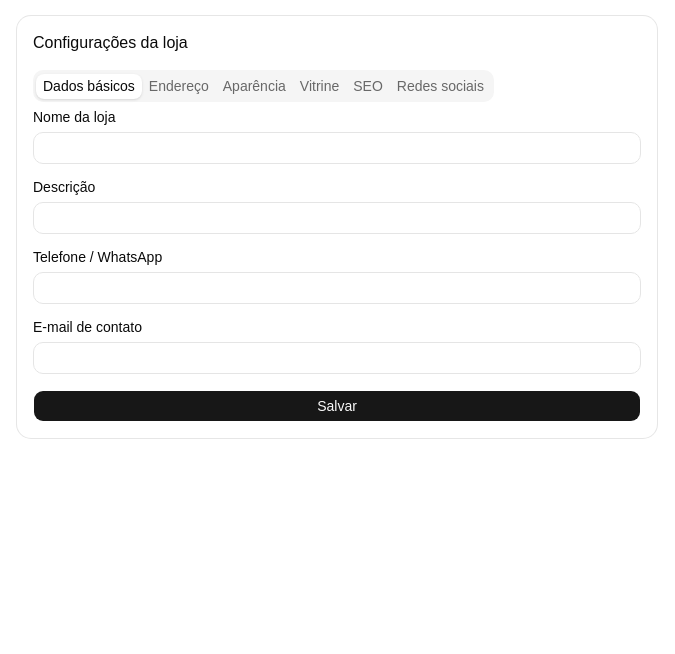
Test case: ConfiguracoesPage › para de sugerir o slug depois que o lojista edita o campo manualmente
The width and height of the screenshot is (675, 654).
Type "Auto Center Silva" into the field labelled "Nome da loja" at x=337, y=148, box x1=33 y1=132 x2=641 y2=164
Click the tab "Vitrine" at x=320, y=86, box x1=293 y1=74 x2=346 y2=98
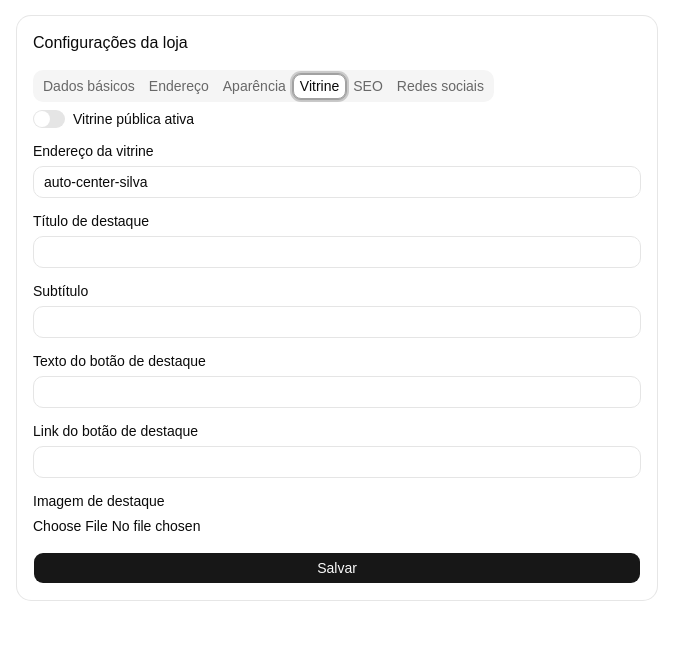
Clear the field labelled "Endereço da vitrine" at x=337, y=182, box x1=33 y1=166 x2=641 y2=198
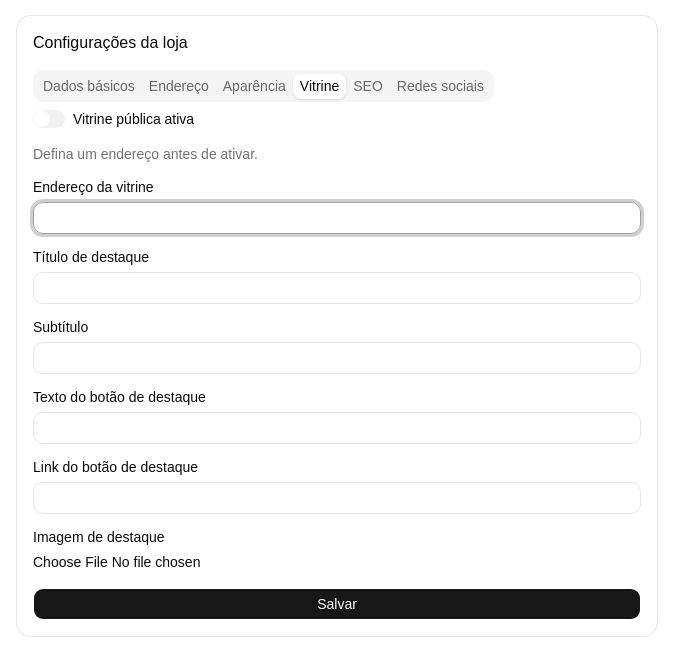
Type "minha-loja-top" into the field labelled "Endereço da vitrine" at x=337, y=218, box x1=33 y1=202 x2=641 y2=234
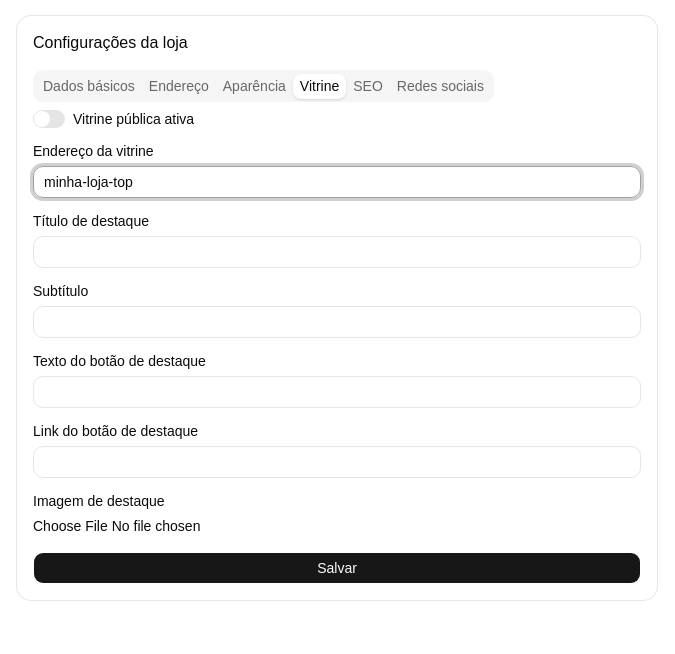
Click the tab "Dados básicos" at x=89, y=86, box x1=36 y1=74 x2=142 y2=98
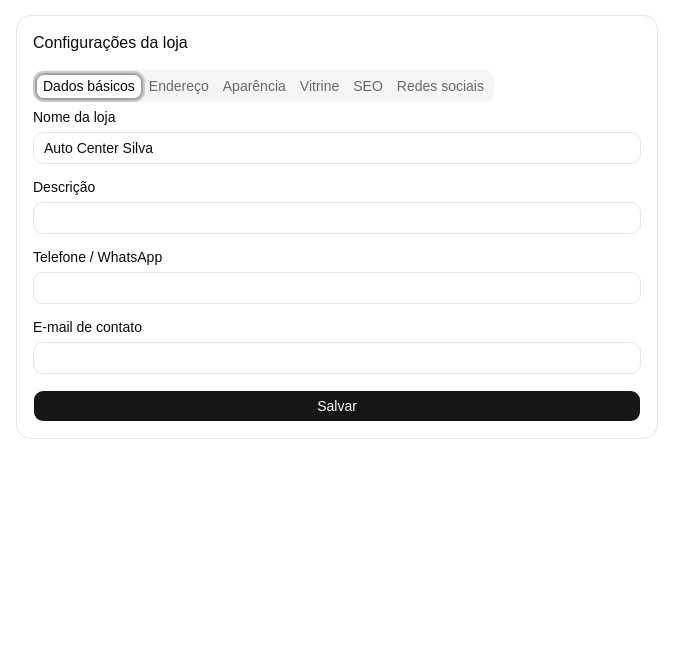
Type " Ltda" into the field labelled "Nome da loja" at x=337, y=148, box x1=33 y1=132 x2=641 y2=164
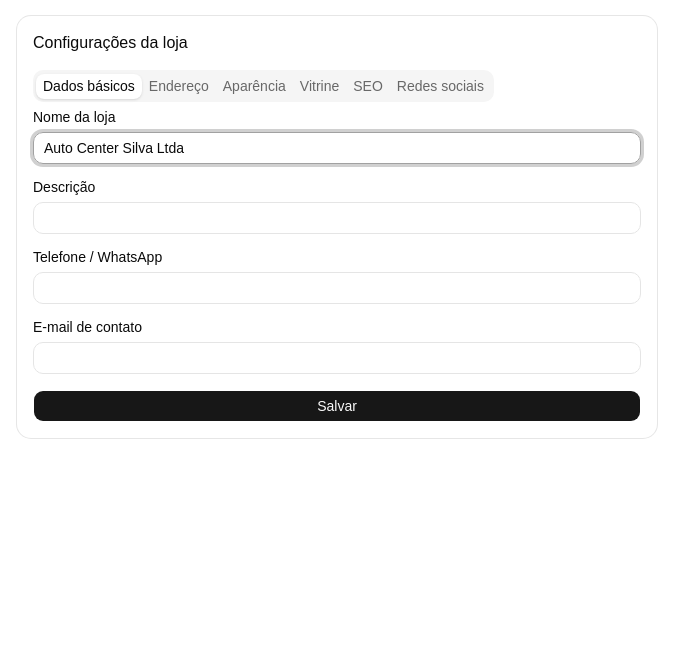
Click the tab "Vitrine" at x=320, y=86, box x1=293 y1=74 x2=346 y2=98
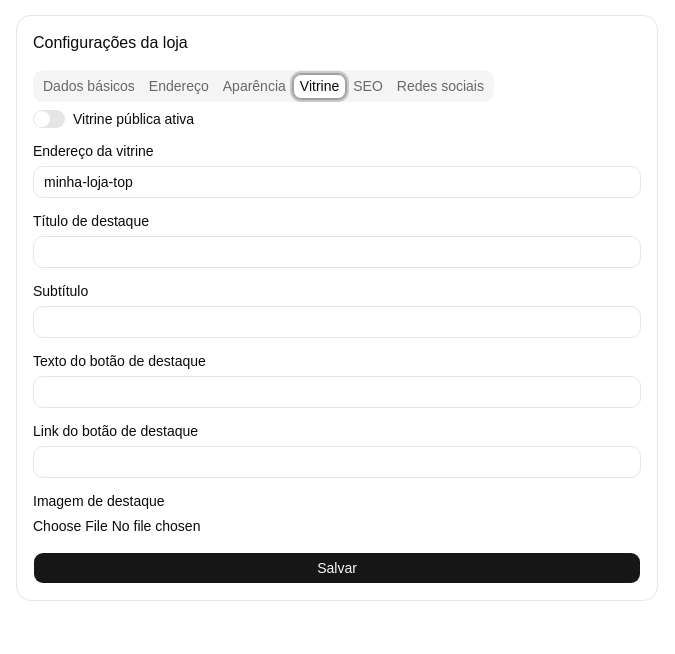
Result: the field labelled "Endereço da vitrine" holds "minha-loja-top" at x1=33 y1=166 x2=641 y2=198
